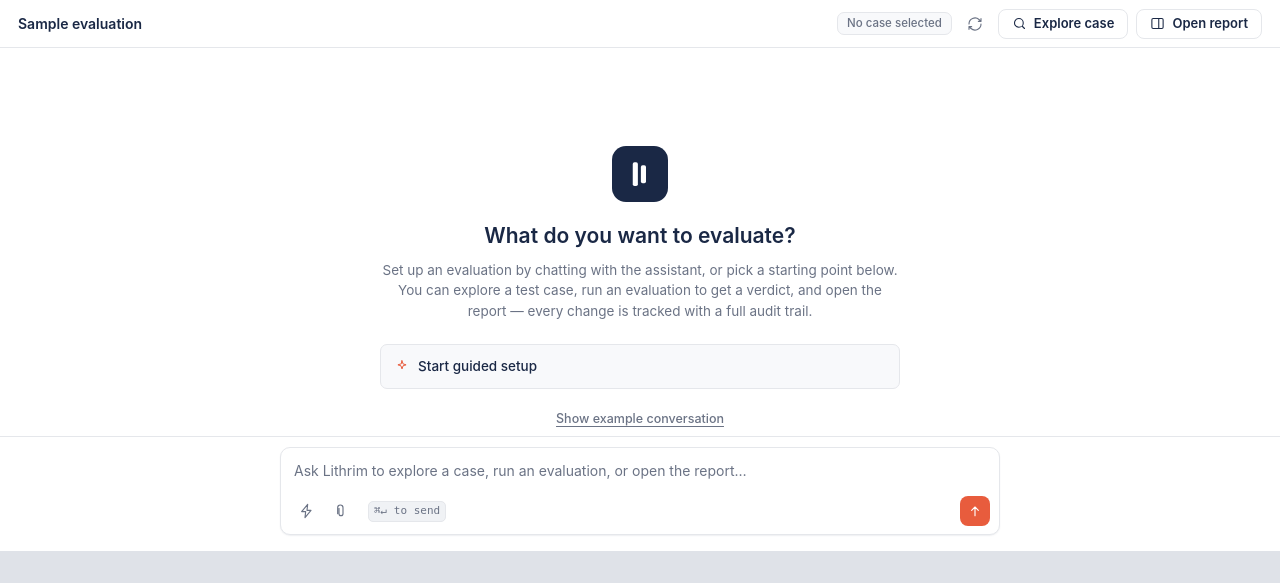
Test: CenterPane — the R11 conversational loop › streams a chat turn: user msg + assistant text + the verdict card render inline
The width and height of the screenshot is (1280, 583).
Replace the text in the text box with placeholder "Ask Lithrim" with "Author a risk judge and run it". click: (640, 467)
box: [281,448,999,485]
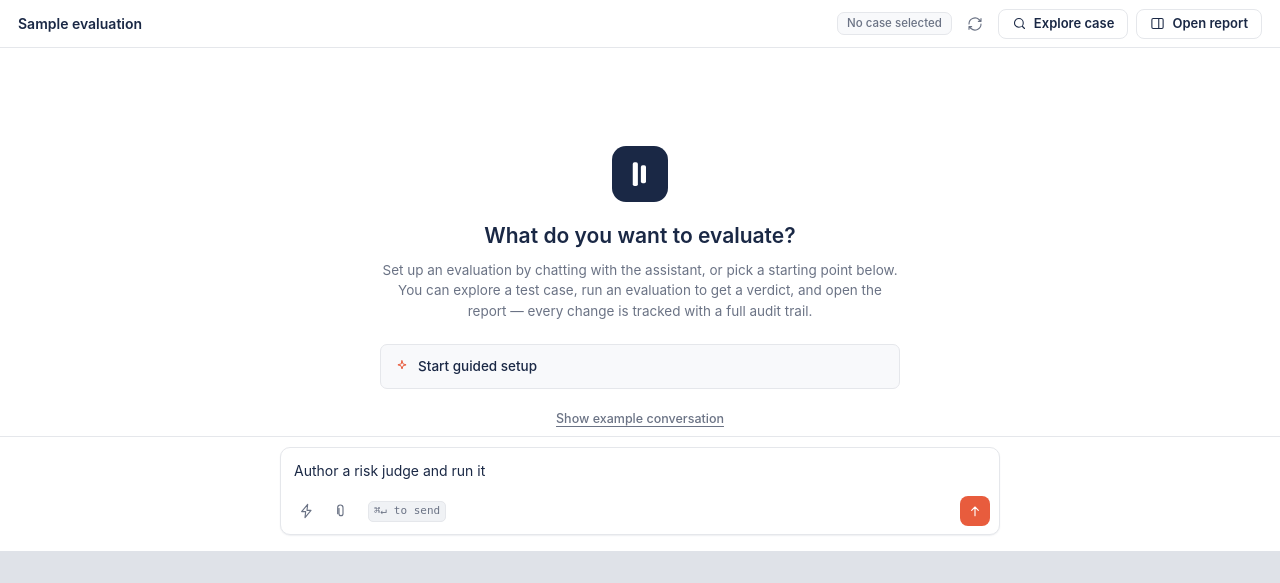
Click the button with test id "chat-send". click: (975, 511)
box: [960,496,990,526]
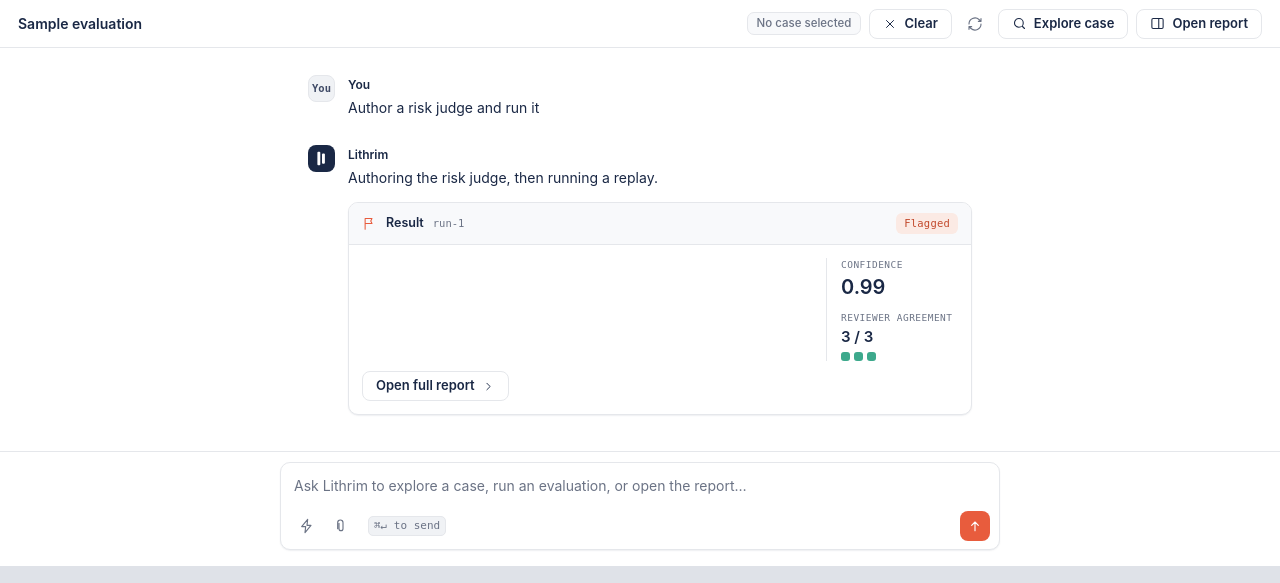
expect the text "Author a risk judge and run it" is shown: met, box [348,99,539,116]
expect the text "Authoring the risk judge, then running a replay." is shown: met, box [348,169,658,186]
expect the text "Flagged" is shown: met, box [896,213,958,234]
